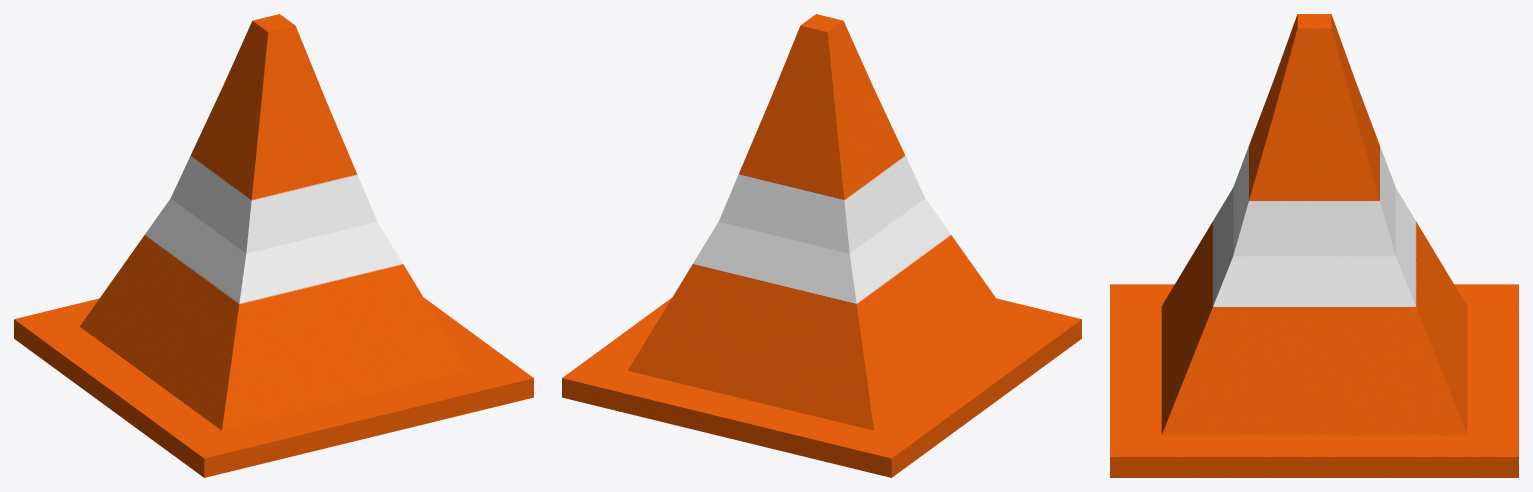
The model's file is trafficcone_textured.fbx.
The picture shows the model from 3 angles, left to right: view 1: azimuth 30°, elevation 25°; view 2: azimuth 150°, elevation 25°; view 3: azimuth 270°, elevation 25°; orthographic projection. The views are drawn at different scales.
Visible parts, largest first — view 1: Plane; view 2: Plane; view 3: Plane.
Part boxes in pixels (x1,y1,x2,y2): Plane: (14,14,533,477); Plane: (562,14,1081,477); Plane: (1110,14,1518,477).
Size of the model in its own units: 50 by 50 by 50.
